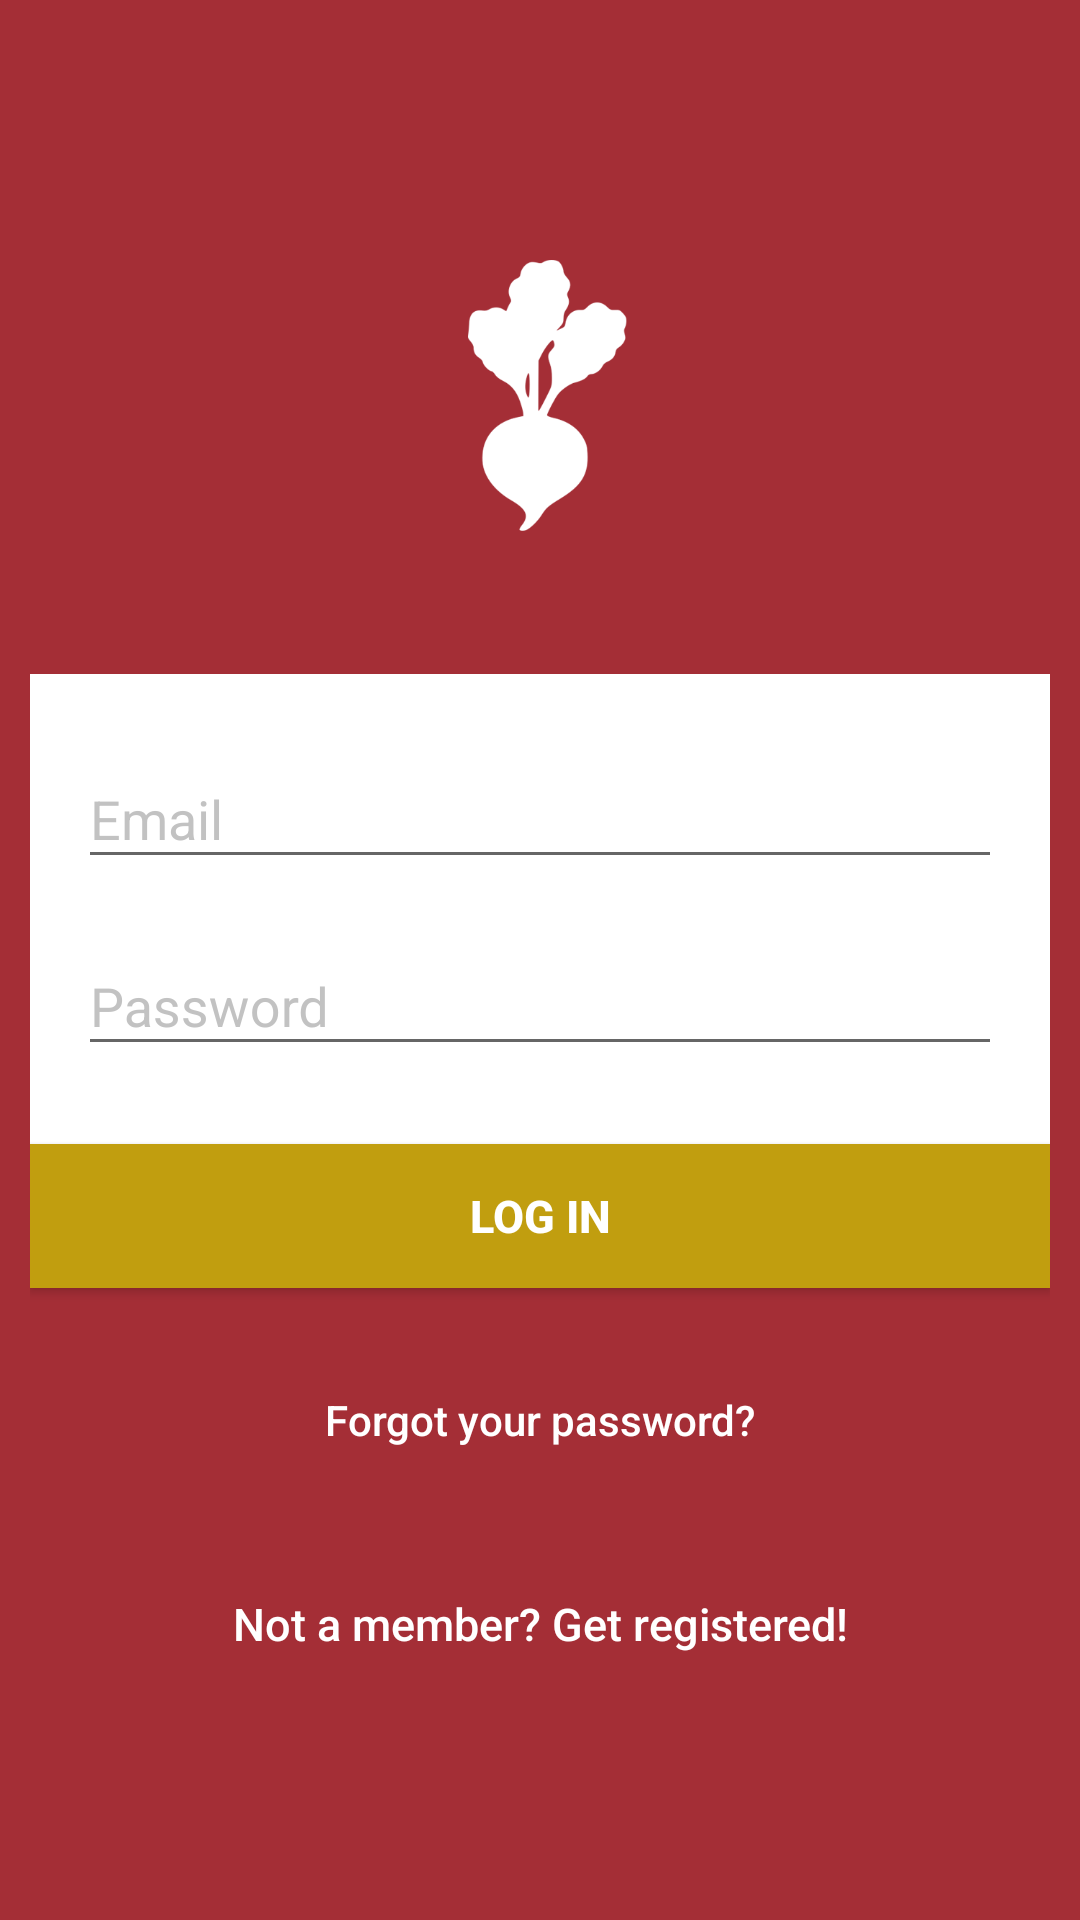

Icon click points for this 1080 x 1920 phone screenshot, format point (x, y):
rabano: point (547, 395)
